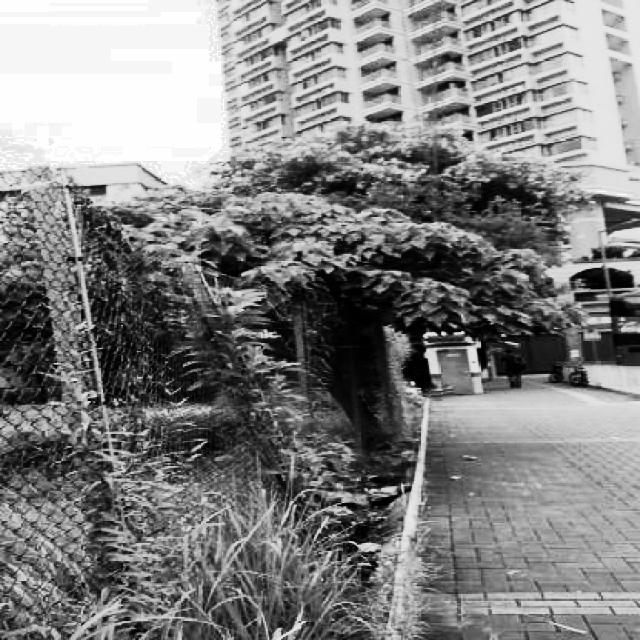anomaly-fence: (71, 162, 364, 550)
